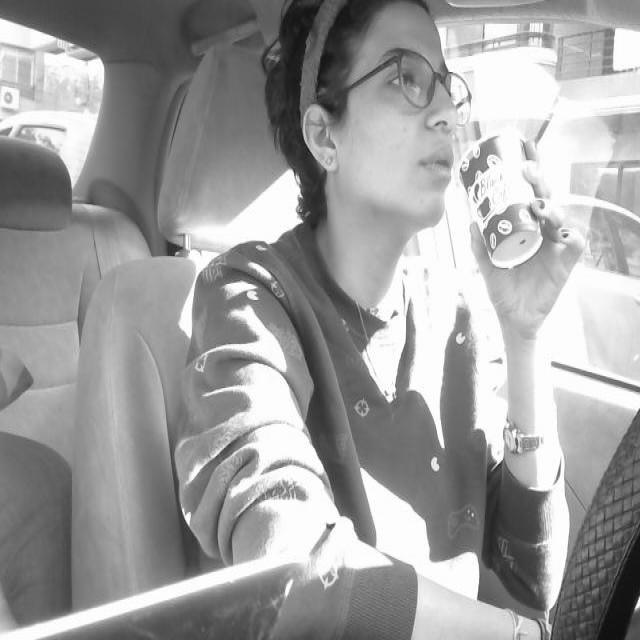drinking: (458, 118, 554, 284)
